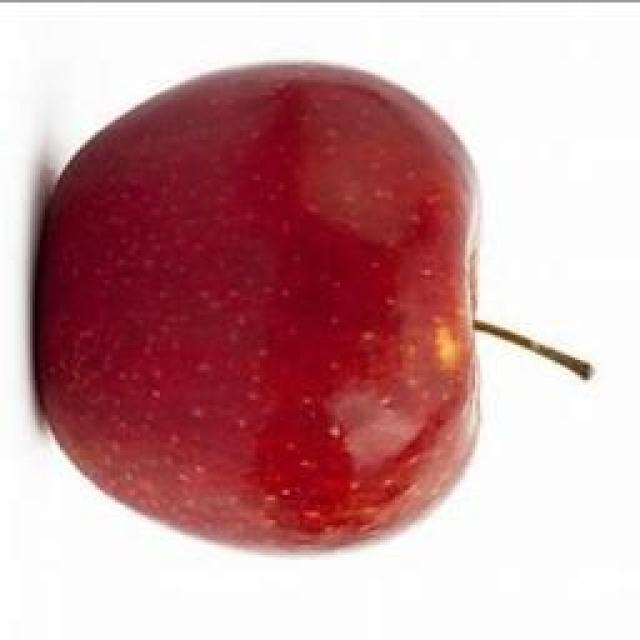apple: (32, 59, 484, 551)
